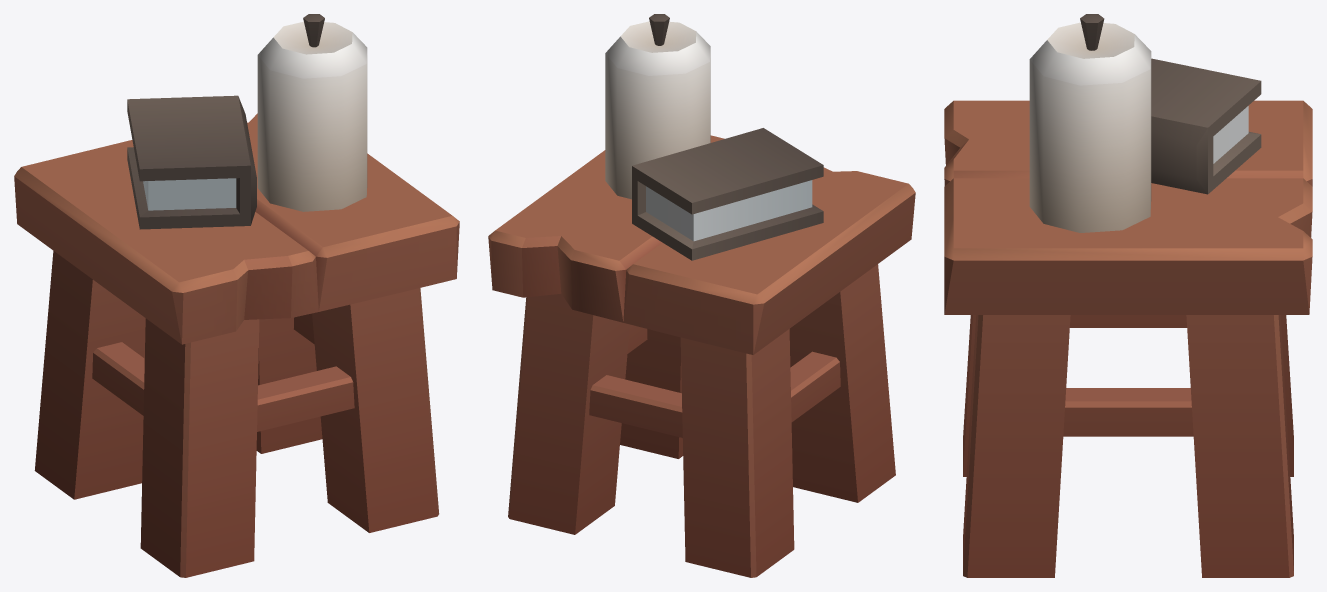
The model's file is table_small_decorated_C.glb.
3 renders of one model, left to right at view 1: azimuth 30°, elevation 25°; view 2: azimuth 150°, elevation 25°; view 3: azimuth 270°, elevation 25°, orthographic. The views are drawn at different scales.
Visible parts, largest first — view 1: table_small_decorated_C; view 2: table_small_decorated_C; view 3: table_small_decorated_C.
Part boxes in pixels (x1,y1,x2,y2): table_small_decorated_C: (14,14,459,577); table_small_decorated_C: (488,14,915,577); table_small_decorated_C: (944,14,1312,577).
Bounding box in the file's own units: 1 × 1.57 × 1.
1 material, 1 textured.
